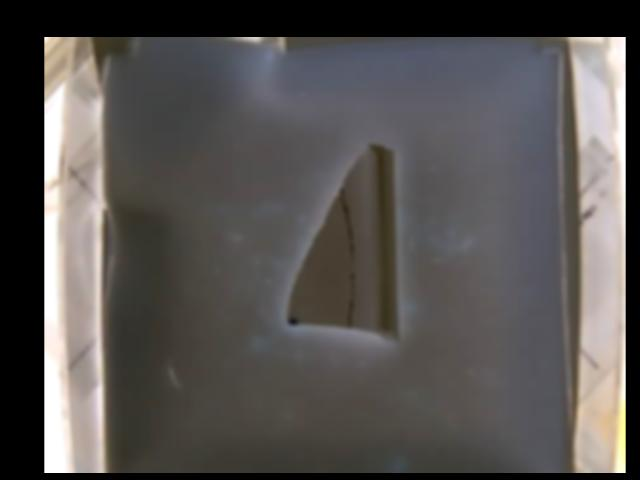China: (284, 143, 398, 341)
